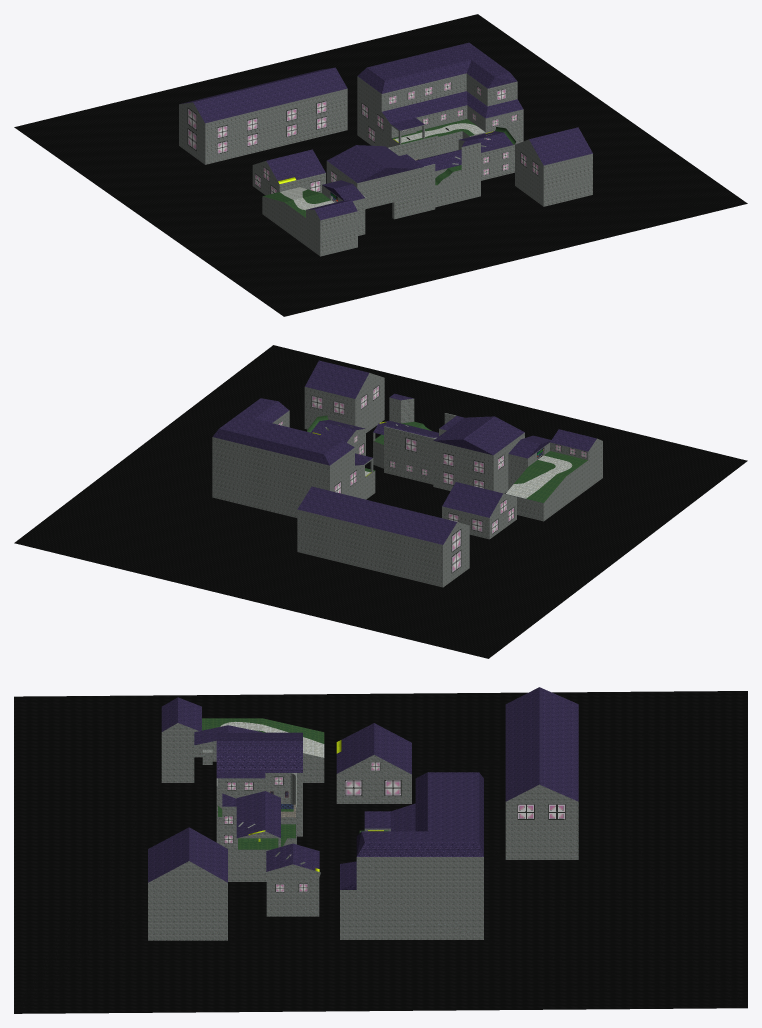
3 renders of one model, top to bottom at view 1: azimuth 30°, elevation 25°; view 2: azimuth 150°, elevation 25°; view 3: azimuth 270°, elevation 25°, orthographic. The views are drawn at different scales.
Visible parts, largest first — view 1: luigiscastle_Main-Dark, luigiscastle_Main-Wall, luigiscastle_Main-Groundcover_Rock_Crushed_2inch, luigiscastle_Main-window, luigiscastle_Main-Grass, luigiscastle_Main-Dirt_Road; view 2: luigiscastle_Main-Dark, luigiscastle_Main-Wall, luigiscastle_Main-Groundcover_Rock_Crushed_2inch, luigiscastle_Main-window, luigiscastle_Main-Grass, luigiscastle_Main-Dirt_Road; view 3: luigiscastle_Main-Dark, luigiscastle_Main-Wall, luigiscastle_Main-Groundcover_Rock_Crushed_2inch, luigiscastle_Main-Grass, luigiscastle_Main-window, luigiscastle_Main-Dirt_Road.
Boxes of the visible parts, bbox=[...] form: luigiscastle_Main-Dark: bbox=[14, 14, 747, 316]; luigiscastle_Main-Wall: bbox=[179, 73, 592, 256]; luigiscastle_Main-Groundcover_Rock_Crushed_2inch: bbox=[181, 42, 592, 220]; luigiscastle_Main-window: bbox=[187, 86, 538, 193]; luigiscastle_Main-Grass: bbox=[263, 119, 515, 217]; luigiscastle_Main-Dirt_Road: bbox=[280, 123, 485, 210]; luigiscastle_Main-Dark: bbox=[14, 345, 747, 658]; luigiscastle_Main-Wall: bbox=[212, 373, 602, 587]; luigiscastle_Main-Groundcover_Rock_Crushed_2inch: bbox=[213, 360, 596, 544]; luigiscastle_Main-window: bbox=[278, 385, 586, 573]; luigiscastle_Main-Grass: bbox=[307, 415, 587, 502]; luigiscastle_Main-Dirt_Road: bbox=[365, 455, 572, 498]; luigiscastle_Main-Dark: bbox=[14, 691, 747, 1013]; luigiscastle_Main-Wall: bbox=[148, 723, 578, 940]; luigiscastle_Main-Groundcover_Rock_Crushed_2inch: bbox=[148, 687, 578, 889]; luigiscastle_Main-Grass: bbox=[202, 718, 388, 849]; luigiscastle_Main-window: bbox=[224, 776, 401, 892]; luigiscastle_Main-Dirt_Road: bbox=[220, 721, 324, 757].
Bounding box in the file's own units: 310056 × 42192 × 297803.
50 materials, 49 textured.
